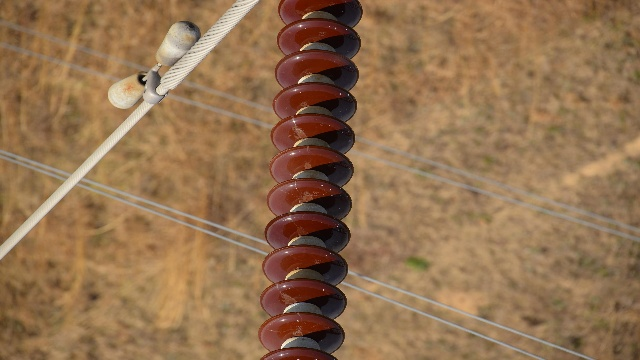insulator_unspecified: (257, 0, 364, 359)
pollution_flashover_local: (297, 186, 317, 205)
